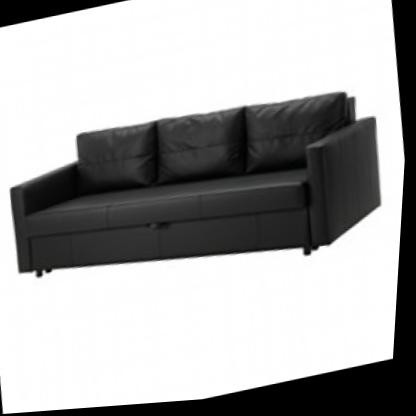Sofa: (0, 41, 404, 339)
